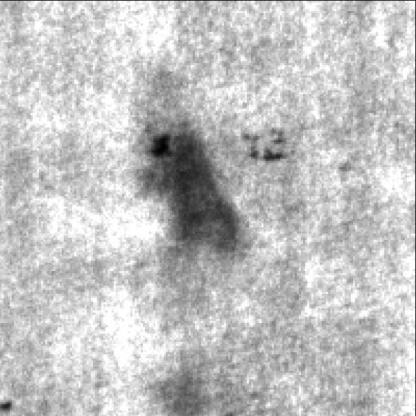patches: (150, 129, 245, 254)
